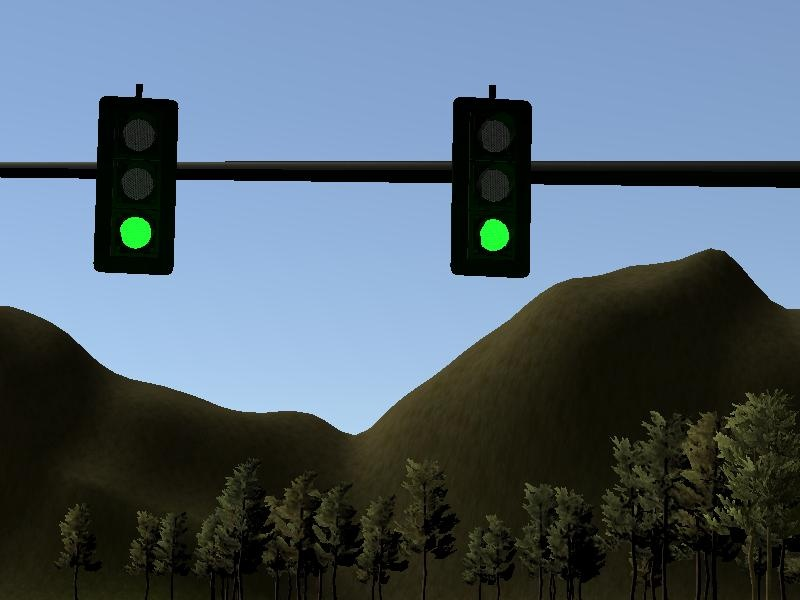GREEN: (450, 98, 533, 277), (93, 96, 176, 275)
